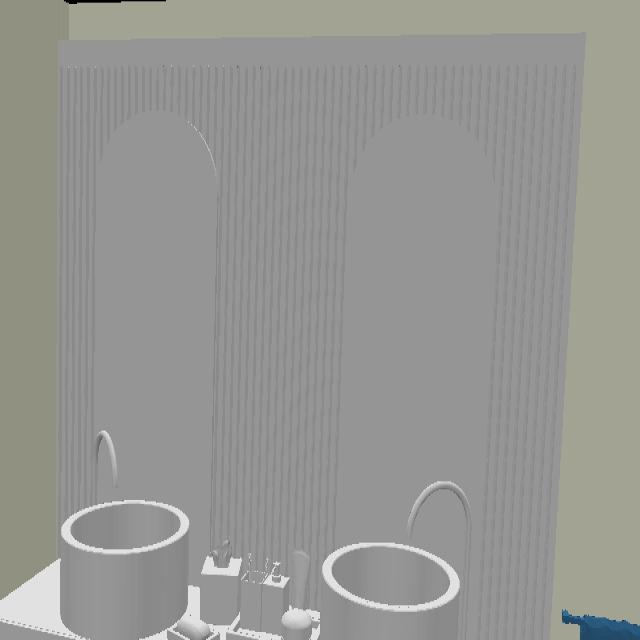washbasin: (68, 499, 190, 640), (320, 543, 463, 640)
